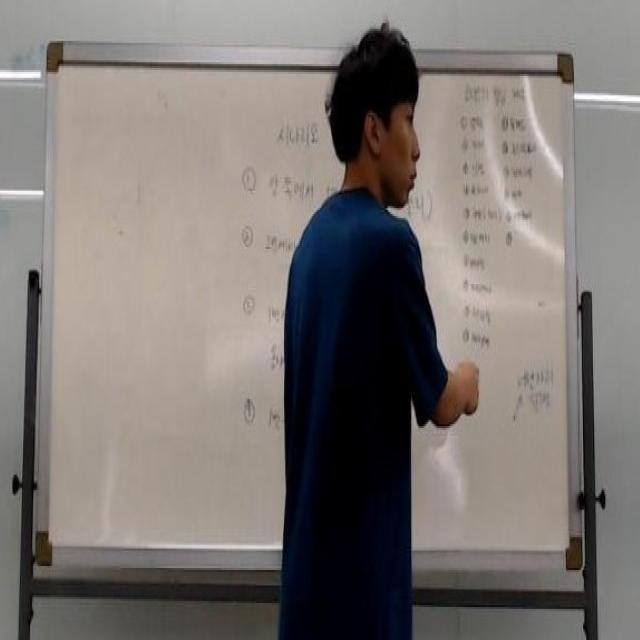Instructor: (305, 31, 423, 618)
White-board: (41, 48, 576, 563)
